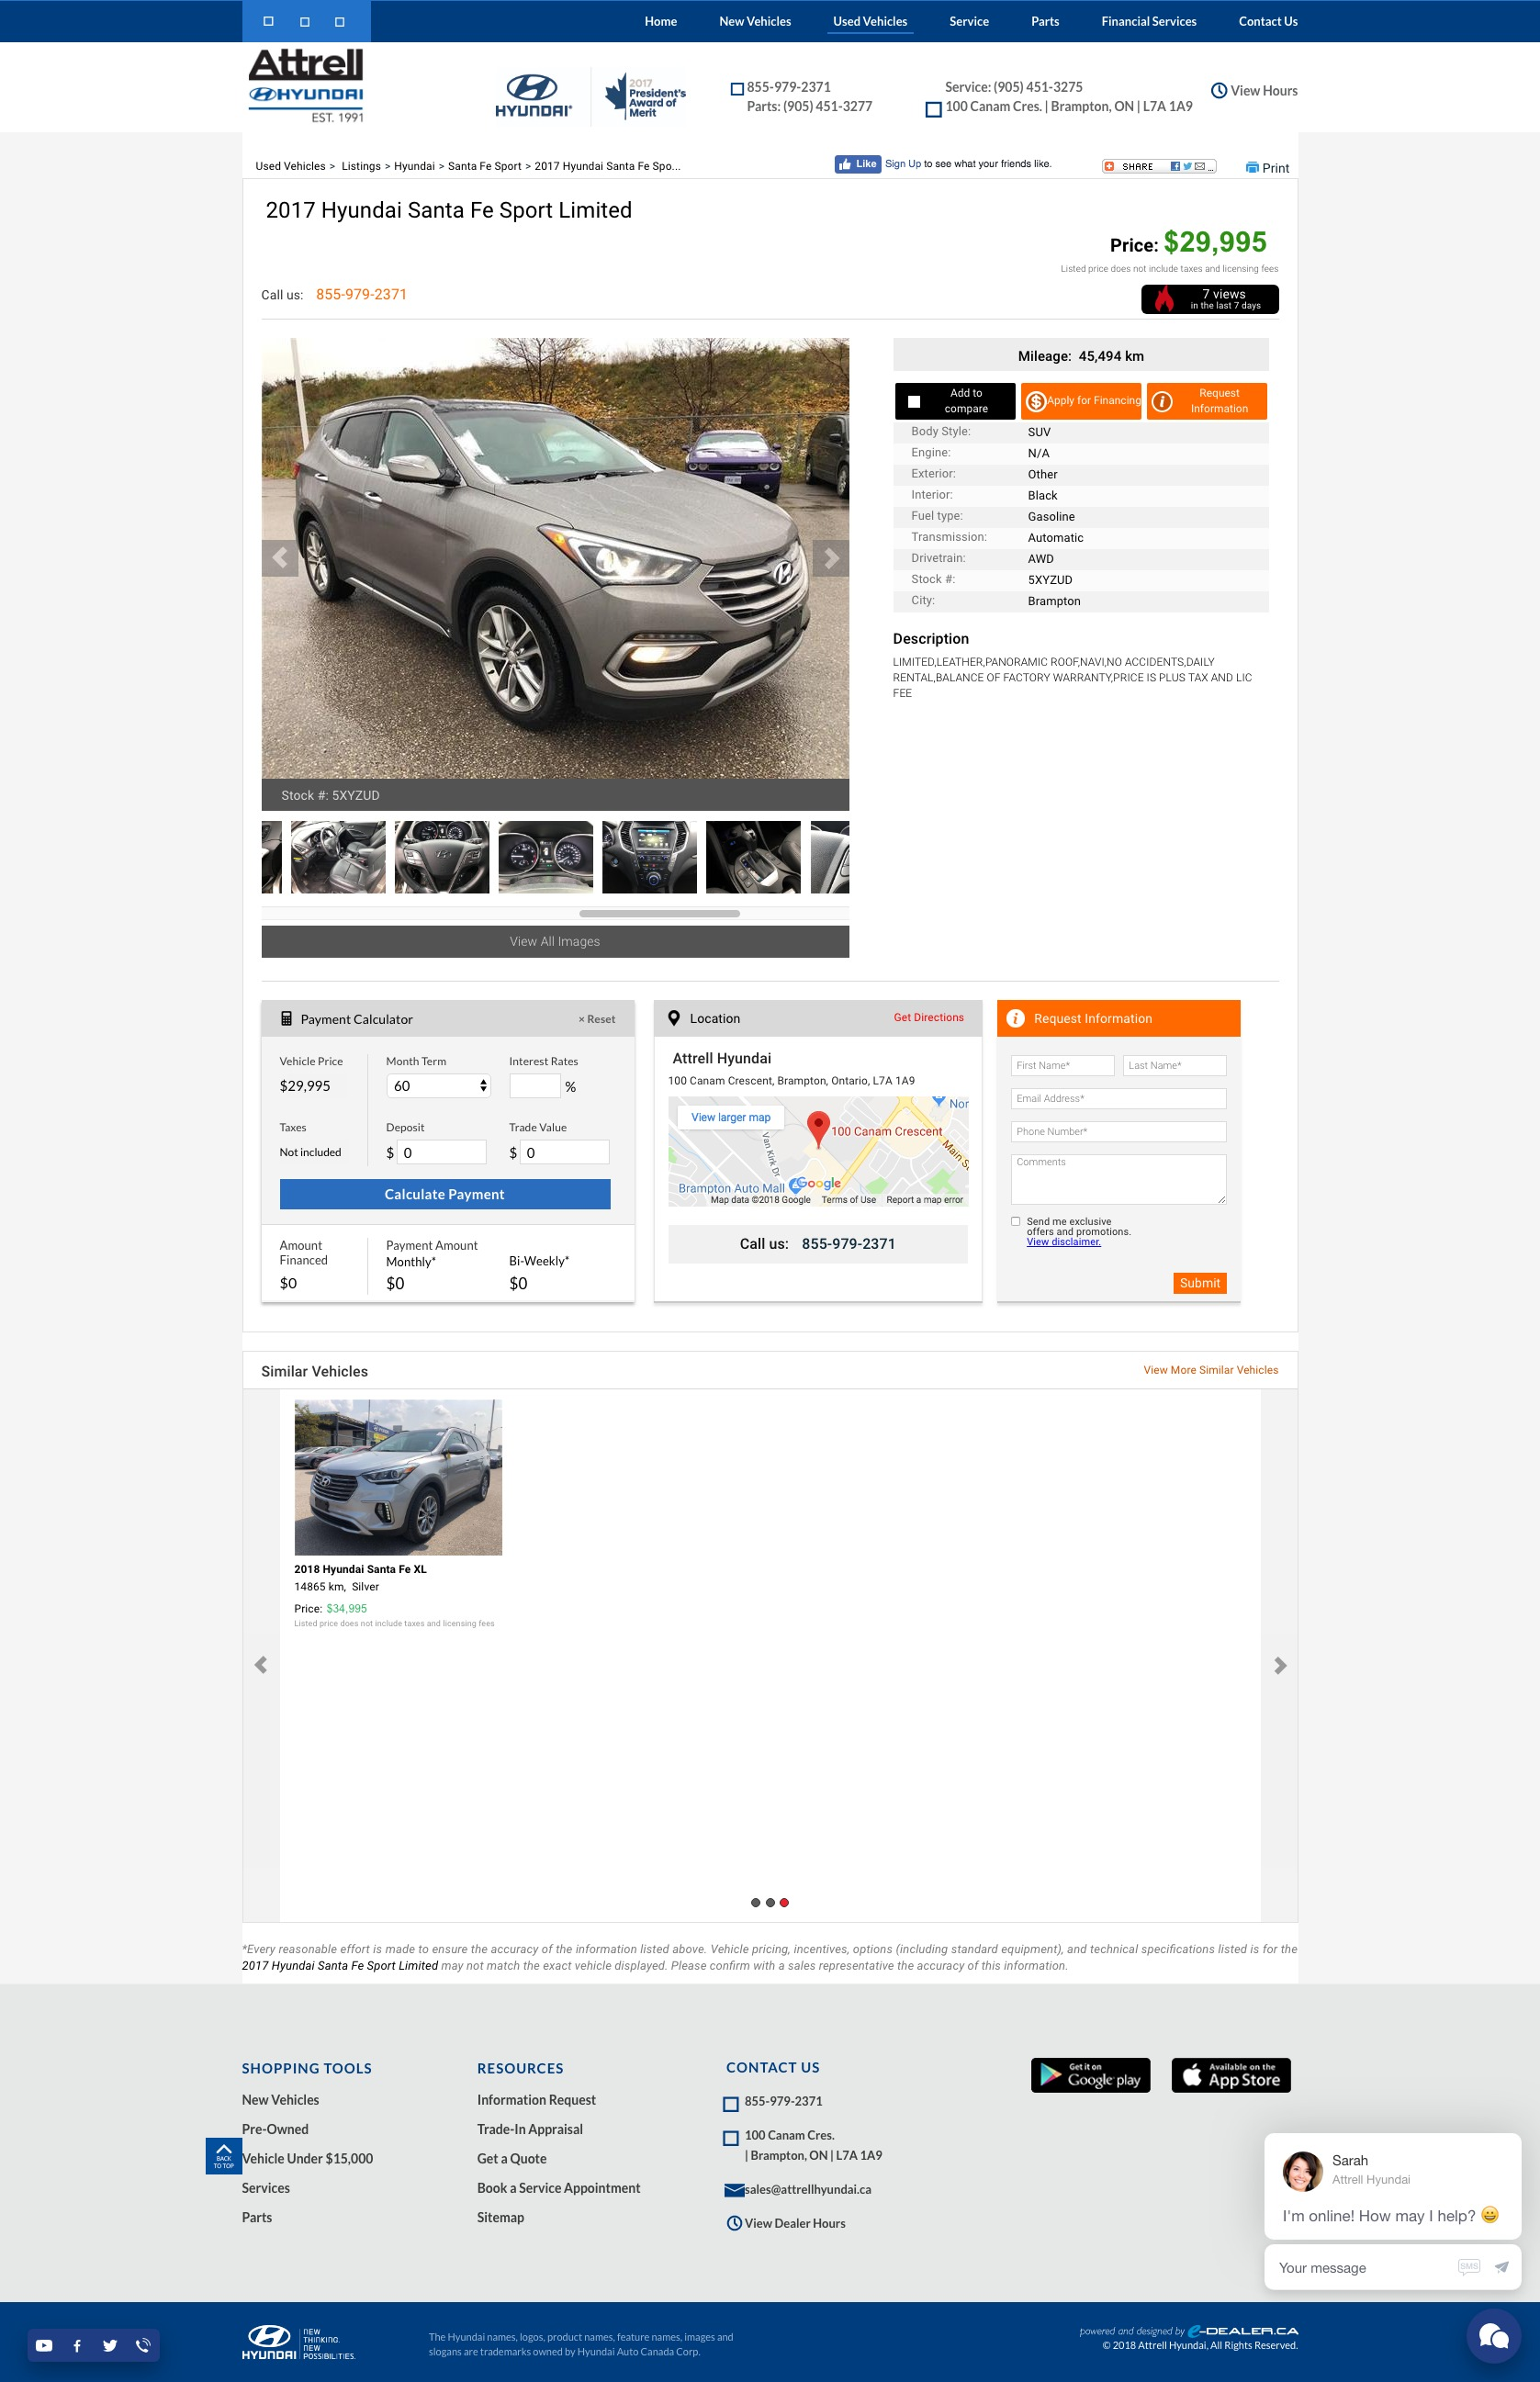car: (813, 538, 851, 580)
